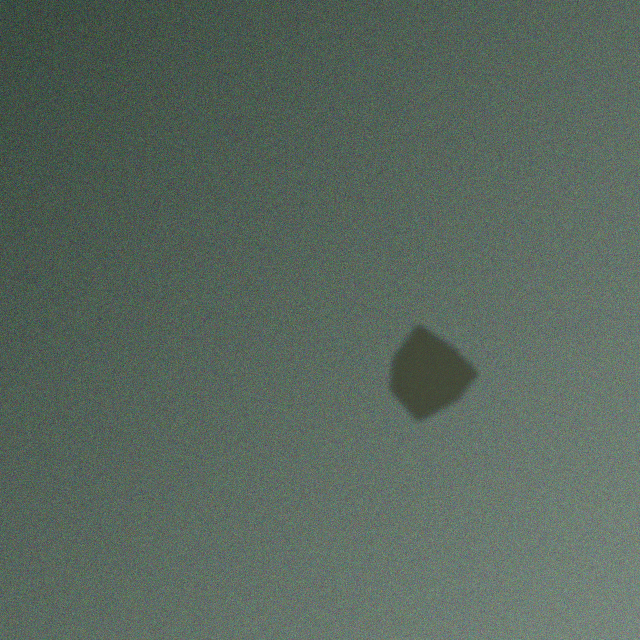defect: (373, 322, 489, 424)
